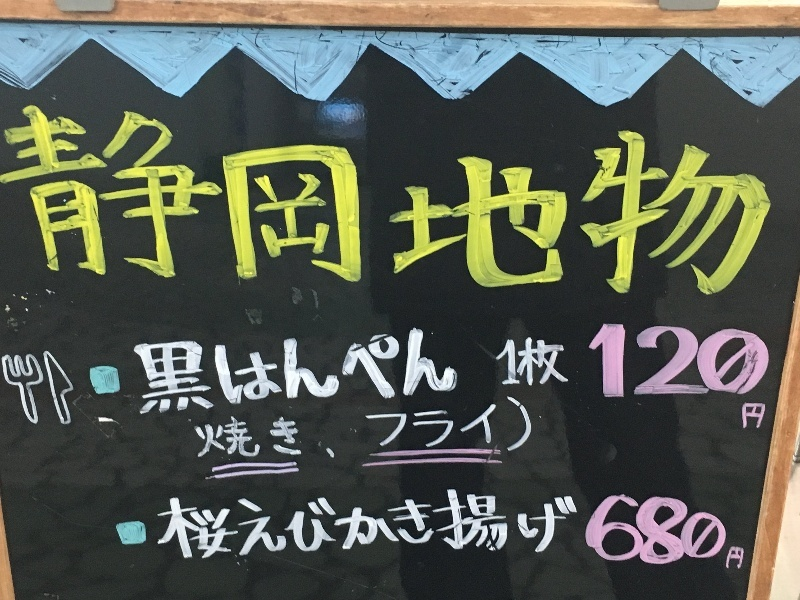text: (1, 105, 16, 299), (17, 105, 32, 299), (33, 105, 48, 299), (49, 105, 64, 299), (65, 105, 80, 299), (81, 105, 96, 299), (97, 105, 112, 299), (113, 105, 128, 299), (129, 105, 144, 299), (145, 105, 160, 299), (161, 105, 176, 299), (177, 105, 192, 299), (193, 105, 208, 299), (209, 105, 224, 299), (225, 105, 240, 299), (241, 105, 256, 299), (257, 105, 272, 299), (273, 105, 288, 299), (289, 105, 304, 299), (305, 105, 320, 299), (321, 105, 336, 299), (337, 105, 352, 299), (353, 105, 368, 299), (369, 105, 384, 299), (385, 105, 400, 299), (401, 105, 416, 299), (417, 105, 432, 299), (433, 105, 448, 299), (449, 105, 464, 299), (465, 105, 480, 299), (481, 105, 496, 299), (497, 105, 512, 299), (513, 105, 528, 299), (529, 105, 544, 299), (545, 105, 560, 299), (561, 105, 576, 299), (577, 105, 592, 299), (593, 105, 608, 299), (609, 105, 624, 299), (625, 105, 640, 299), (641, 105, 656, 299), (657, 105, 672, 299), (673, 105, 688, 299), (689, 105, 704, 299), (705, 105, 720, 299), (721, 105, 736, 299), (737, 105, 752, 299), (753, 105, 768, 299), (769, 105, 782, 299), (145, 321, 160, 414), (161, 321, 176, 414), (177, 321, 192, 414), (193, 321, 208, 414), (209, 321, 224, 414), (225, 321, 240, 414), (241, 321, 256, 414), (257, 321, 272, 414), (273, 321, 288, 414), (289, 321, 304, 414), (305, 321, 320, 414), (321, 321, 336, 414), (337, 321, 352, 414), (353, 321, 368, 414), (369, 321, 384, 414), (385, 321, 400, 414), (401, 321, 416, 414), (417, 321, 432, 414), (433, 321, 448, 414), (449, 321, 464, 414), (465, 321, 480, 414), (481, 321, 496, 414), (497, 321, 512, 414), (513, 321, 528, 414), (529, 321, 544, 414), (545, 321, 560, 414), (561, 321, 576, 414), (577, 321, 592, 414), (593, 321, 608, 414), (609, 321, 624, 414), (625, 321, 640, 414), (641, 321, 656, 414), (657, 321, 672, 414), (673, 321, 688, 414), (689, 321, 704, 414), (705, 321, 720, 414), (721, 321, 736, 414), (737, 321, 752, 414), (753, 321, 768, 414), (161, 483, 176, 574), (177, 483, 192, 574), (193, 483, 208, 574), (209, 483, 224, 574), (225, 483, 240, 574), (241, 483, 256, 574), (257, 483, 272, 574), (273, 483, 288, 574), (289, 483, 304, 574), (305, 483, 320, 574), (321, 483, 336, 574), (337, 483, 352, 574), (353, 483, 368, 574), (369, 483, 384, 574), (385, 483, 400, 574), (401, 483, 416, 574), (417, 483, 432, 574), (433, 483, 448, 574), (449, 483, 464, 574), (465, 483, 480, 574), (481, 483, 496, 574), (497, 483, 512, 574), (513, 483, 528, 574), (529, 483, 544, 574), (545, 483, 560, 574), (561, 483, 576, 574), (577, 483, 592, 574), (593, 483, 608, 574), (609, 483, 624, 574), (625, 483, 640, 574), (641, 483, 656, 574), (657, 483, 672, 574), (673, 483, 688, 574), (689, 483, 704, 574), (705, 483, 720, 574), (721, 483, 736, 574), (737, 483, 752, 574), (131, 321, 144, 414), (193, 397, 208, 458), (209, 397, 224, 458), (225, 397, 240, 458), (241, 397, 256, 458), (257, 397, 272, 458), (273, 397, 288, 458), (289, 397, 304, 458), (305, 397, 320, 458), (321, 397, 336, 458), (337, 397, 352, 458), (353, 397, 368, 458), (369, 397, 384, 458), (385, 397, 400, 458), (401, 397, 416, 458), (417, 397, 432, 458), (433, 397, 448, 458), (449, 397, 464, 458), (465, 397, 480, 458), (481, 397, 496, 458), (497, 397, 512, 458), (513, 397, 528, 458), (753, 483, 759, 574), (753, 402, 766, 430), (156, 483, 160, 574), (742, 402, 752, 430), (769, 321, 772, 414), (529, 397, 533, 458)
